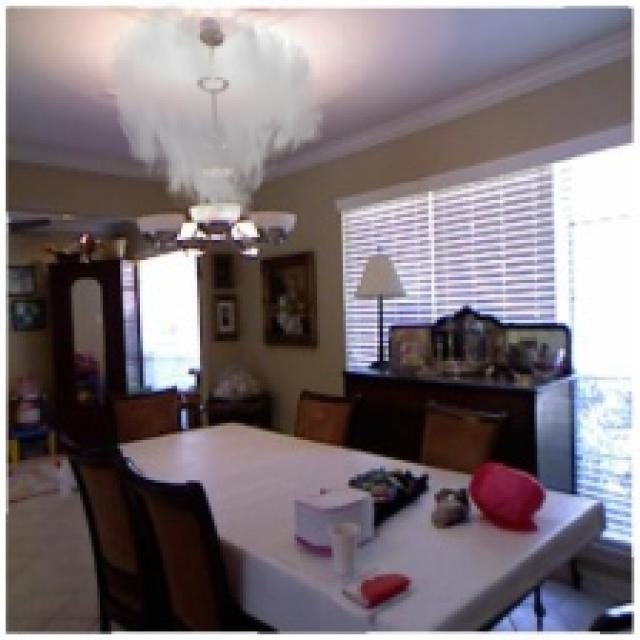smoke: (105, 0, 329, 232)
